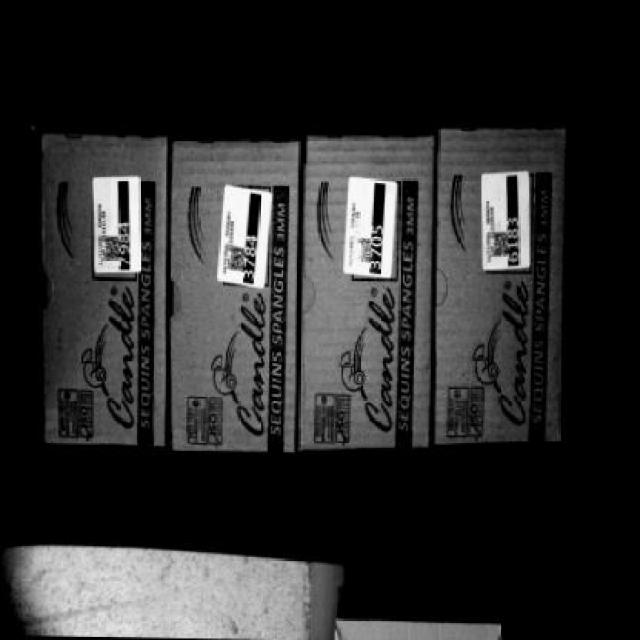cardboxes: (19, 140, 181, 458), (171, 132, 303, 459), (436, 126, 570, 448), (306, 139, 440, 452), (35, 135, 177, 402), (167, 406, 176, 416)
